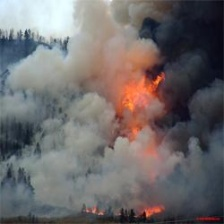fire: (110, 61, 182, 219)
smoke: (5, 6, 120, 216), (168, 3, 224, 204)
